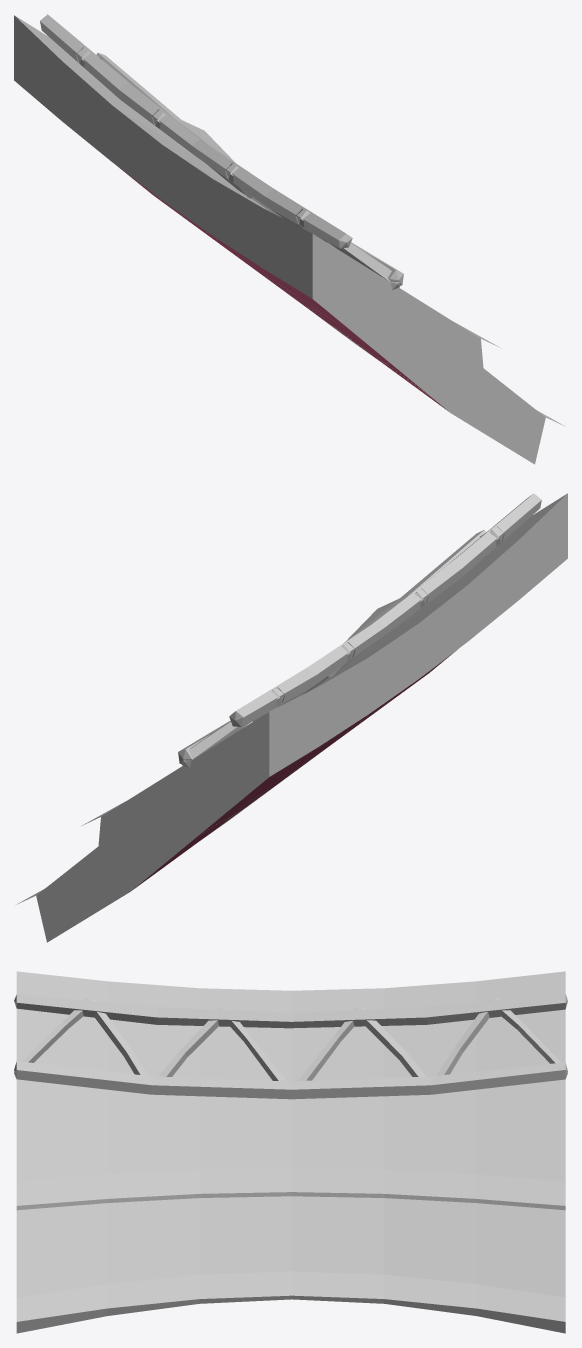
File: SM_Bld_Roof_Thatch_Preset_02.fbx
The picture shows the model from 3 angles, top to bottom: view 1: azimuth 30°, elevation 25°; view 2: azimuth 150°, elevation 25°; view 3: azimuth 270°, elevation 25°; orthographic projection. The views are drawn at different scales.
Visible parts, largest first — view 1: SM_Bld_Roof_Thatch_Preset_02; view 2: SM_Bld_Roof_Thatch_Preset_02; view 3: SM_Bld_Roof_Thatch_Preset_02.
Boxes of the visible parts, x1,y1,x2,y2 form: SM_Bld_Roof_Thatch_Preset_02: [14, 14, 565, 464]; SM_Bld_Roof_Thatch_Preset_02: [16, 493, 567, 942]; SM_Bld_Roof_Thatch_Preset_02: [14, 971, 567, 1333].
Bounding box in the file's own units: 247 × 264 × 505.
